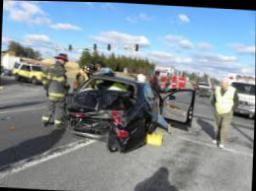Bumper: (69, 107, 135, 136)
Dickey: (70, 94, 134, 114)
